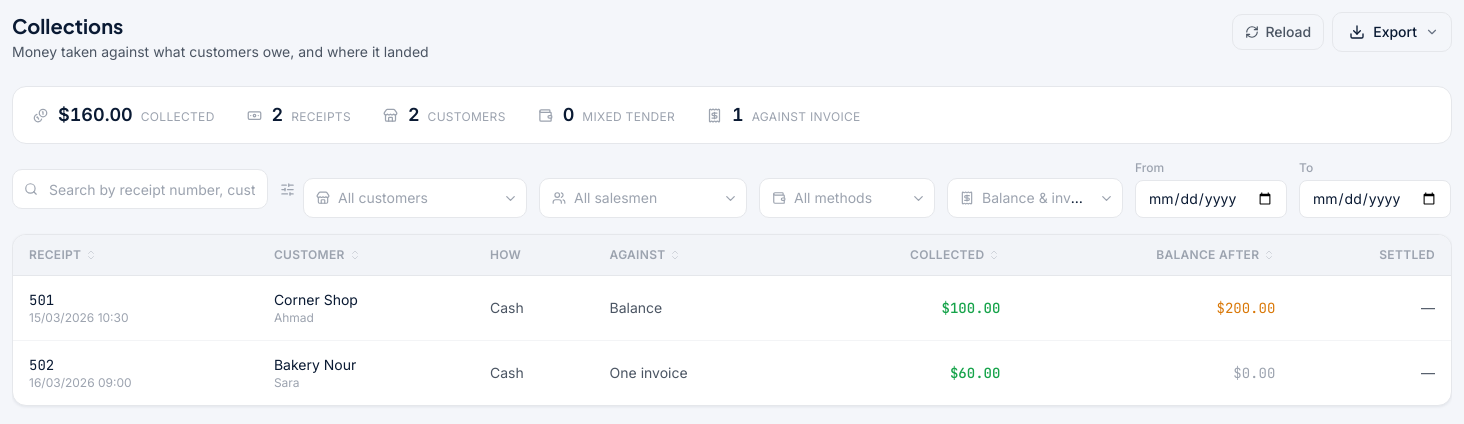
Test: Collections › finds a document by its number without falling over
Expected: the table is shown, [13,276,1451,405]
Expected: the text "Corner Shop" is shown, [274,291,358,308]
Type "502" into the field with placeholder "Search by receipt number, customer or salesman…".
click(140, 189); type("502")  # box [12,169,268,209]
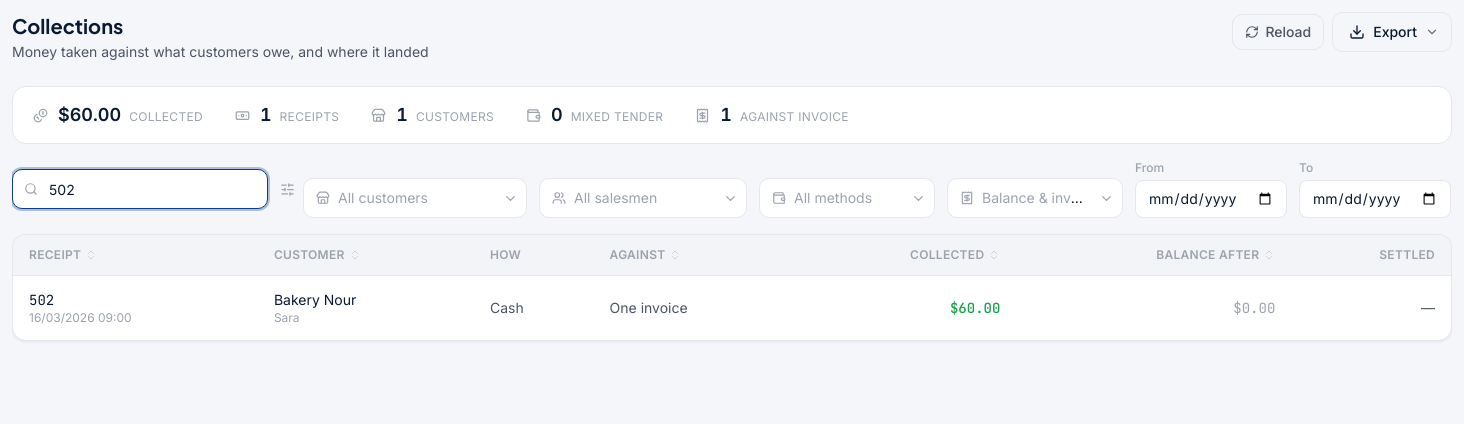
Expected: the text "Bakery Nour" is shown, [274,291,356,308]
Result: the text "Corner Shop" is gone
